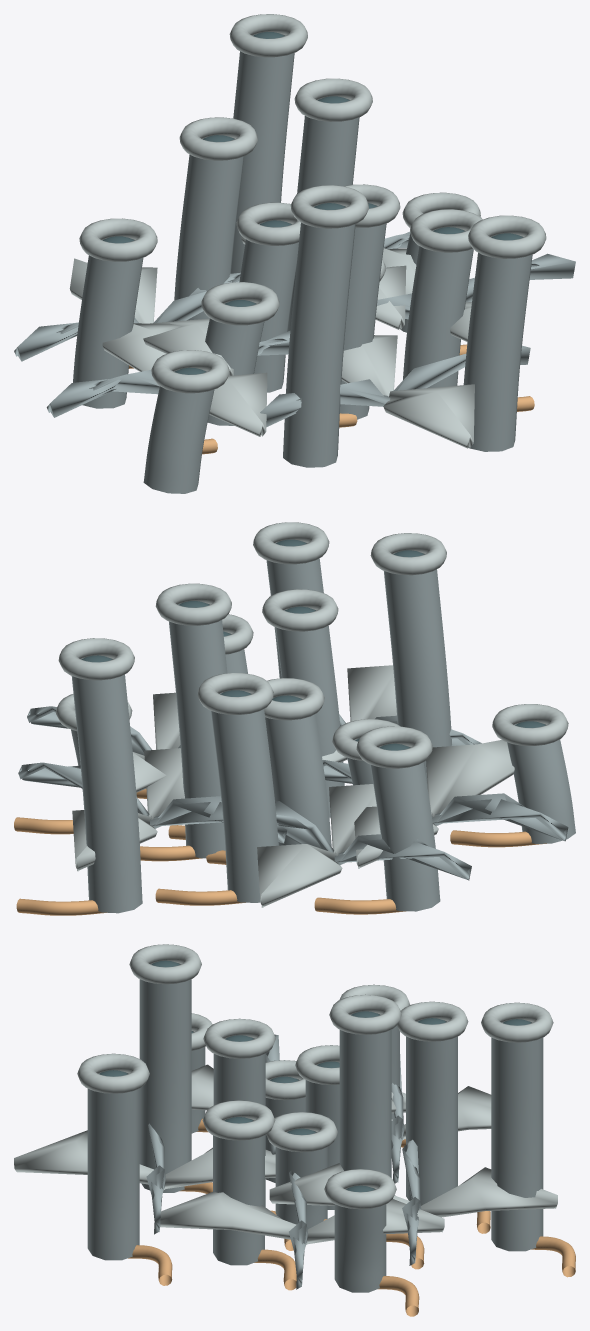
Rendered from bio_thermal_colony_20_near.glb.
The picture shows the model from 3 angles, top to bottom: view 1: azimuth 30°, elevation 25°; view 2: azimuth 150°, elevation 25°; view 3: azimuth 270°, elevation 25°; orthographic projection. The views are drawn at different scales.
Visible parts, largest first — view 1: Chimney biofilm.007, Chimney biofilm.010, Chimney biofilm.006, Chimney biofilm.011, Chimney biofilm.009, Chimney biofilm.005, Low buttress leaf.009, Chimney biofilm.012, Low buttress leaf.017, Chimney biofilm.001, Chimney biofilm.002, Chimney biofilm.003 (+20 smaller); view 2: Chimney biofilm.011, Chimney biofilm.006, Chimney biofilm.007, Chimney biofilm.003, Chimney biofilm.009, Low buttress leaf.005, Low buttress leaf.017, Chimney biofilm.001, Chimney biofilm.012, Chimney biofilm.002, Low buttress leaf.016, Low buttress leaf.004 (+25 smaller); view 3: Chimney biofilm.011, Chimney biofilm.007, Chimney biofilm.010, Chimney biofilm.006, Chimney biofilm.003, Low buttress leaf.001, Chimney biofilm.005, Low buttress leaf.013, Chimney biofilm.008, Low buttress leaf.009, Chimney biofilm.002, Open vent rim.011 (+28 smaller).
Boxes of the visible parts, left/top/right/bottom form: Chimney biofilm.007: left=283, top=205, right=355, bottom=467; Chimney biofilm.010: left=463, top=236, right=532, bottom=451; Chimney biofilm.006: left=174, top=137, right=243, bottom=320; Chimney biofilm.011: left=231, top=34, right=294, bottom=273; Chimney biofilm.009: left=73, top=238, right=143, bottom=408; Chimney biofilm.005: left=403, top=229, right=473, bottom=388; Low buttress leaf.009: left=341, top=335, right=474, bottom=448; Chimney biofilm.012: left=143, top=370, right=214, bottom=493; Low buttress leaf.017: left=102, top=323, right=267, bottom=436; Chimney biofilm.001: left=239, top=223, right=298, bottom=392; Chimney biofilm.002: left=340, top=205, right=386, bottom=419; Chimney biofilm.003: left=288, top=98, right=359, bottom=331; Chimney biofilm.011: left=71, top=658, right=142, bottom=913; Chimney biofilm.006: left=211, top=692, right=278, bottom=902; Chimney biofilm.007: left=384, top=553, right=451, bottom=787; Chimney biofilm.003: left=169, top=603, right=227, bottom=858; Chimney biofilm.009: left=370, top=746, right=440, bottom=911; Low buttress leaf.005: left=257, top=784, right=376, bottom=907; Low buttress leaf.017: left=354, top=740, right=514, bottom=868; Chimney biofilm.001: left=265, top=698, right=331, bottom=846; Chimney biofilm.012: left=507, top=723, right=575, bottom=843; Chimney biofilm.002: left=275, top=609, right=344, bottom=817; Low buttress leaf.016: left=322, top=760, right=568, bottom=841; Low buttress leaf.004: left=275, top=801, right=471, bottom=880; Chimney biofilm.011: left=491, top=1021, right=543, bottom=1251; Chimney biofilm.007: left=139, top=963, right=191, bottom=1192; Chimney biofilm.010: left=87, top=1072, right=139, bottom=1260; Chimney biofilm.006: left=406, top=1020, right=457, bottom=1205; Chimney biofilm.003: left=339, top=1014, right=391, bottom=1177; Low buttress leaf.001: left=160, top=1191, right=444, bottom=1244; Chimney biofilm.005: left=213, top=1119, right=264, bottom=1265; Low buttress leaf.013: left=269, top=1163, right=557, bottom=1217; Chimney biofilm.008: left=334, top=1188, right=386, bottom=1292; Low buttress leaf.009: left=14, top=1130, right=275, bottom=1189; Chimney biofilm.002: left=213, top=1038, right=265, bottom=1207; Open vent rim.011: left=481, top=1002, right=553, bottom=1042.
Bounding box in the file's own units: 2.22 × 1.03 × 2.16.
